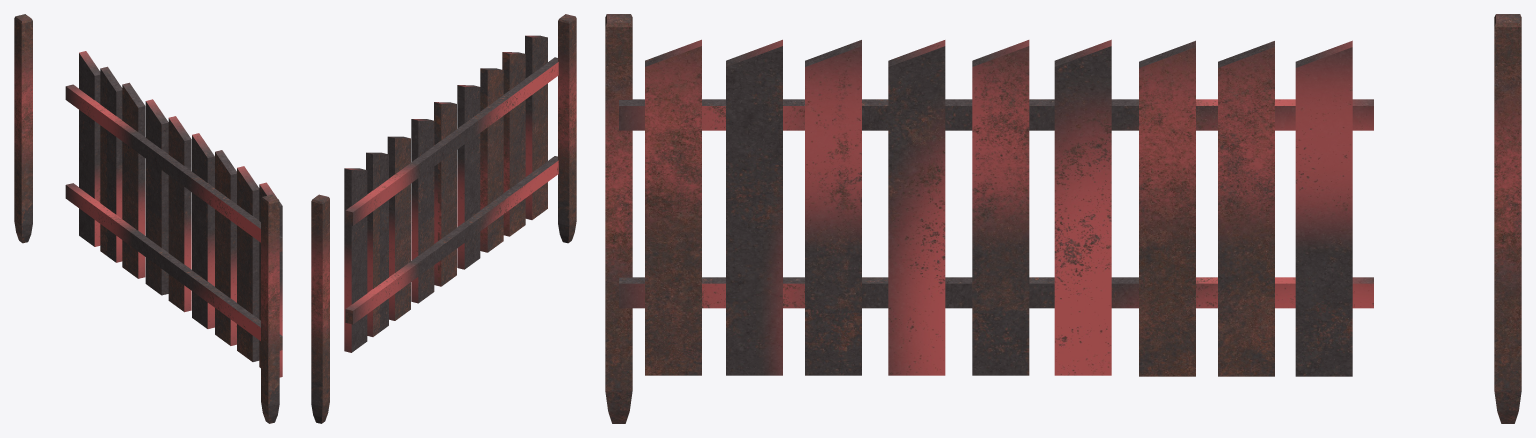
The model's file is snowy_fence.obj.
3 views of the same model, side by side, from view 1: azimuth 30°, elevation 25°; view 2: azimuth 150°, elevation 25°; view 3: azimuth 270°, elevation 25° (orthographic). The views are drawn at different scales.
Parts seen in each view (by area): view 1: Cube.011_DefaultMaterial_0, Cube.012_DefaultMaterial_0; view 2: Cube.011_DefaultMaterial_0, Cube.012_DefaultMaterial_0; view 3: Cube.011_DefaultMaterial_0, Cube.012_DefaultMaterial_0.
Boxes of the visible parts, <box> form: Cube.011_DefaultMaterial_0: <box>65,51,282,423</box>; Cube.012_DefaultMaterial_0: <box>14,14,32,243</box>; Cube.011_DefaultMaterial_0: <box>344,14,576,352</box>; Cube.012_DefaultMaterial_0: <box>311,194,329,423</box>; Cube.011_DefaultMaterial_0: <box>605,14,1373,423</box>; Cube.012_DefaultMaterial_0: <box>1494,14,1521,423</box>.
Bounding box in the file's own units: 5.93 × 50.55 × 104.
